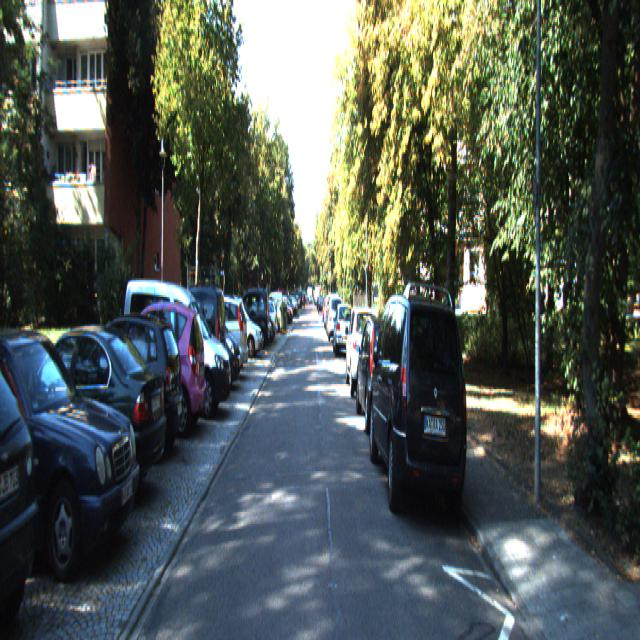Car: (0, 318, 143, 584), (1, 317, 171, 512), (368, 276, 469, 526), (65, 307, 187, 463), (121, 276, 231, 422), (0, 323, 49, 638), (110, 300, 207, 446), (149, 281, 226, 405), (354, 310, 410, 432), (175, 294, 247, 386), (346, 303, 382, 398), (333, 303, 354, 359)
